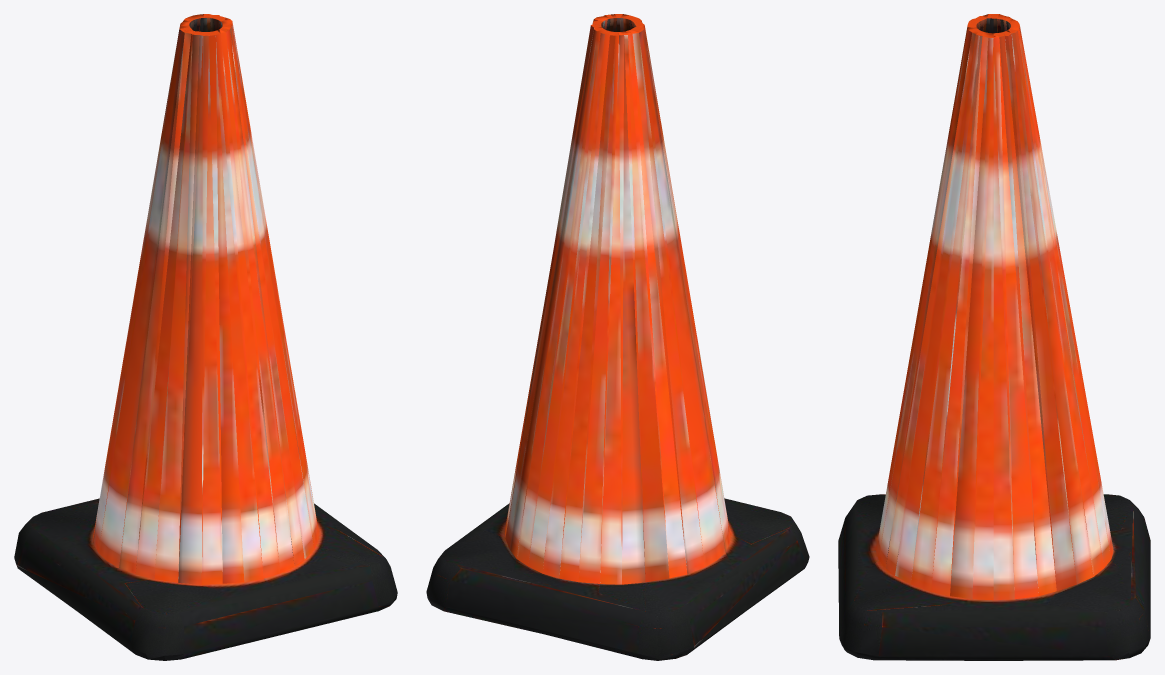
The model's file is traffic_cone.glb.
3 views of the same model, side by side, from view 1: azimuth 30°, elevation 25°; view 2: azimuth 150°, elevation 25°; view 3: azimuth 270°, elevation 25° (orthographic). The views are drawn at different scales.
Parts seen in each view (by area): view 1: traffic_cone_lod0; view 2: traffic_cone_lod0; view 3: traffic_cone_lod0.
Boxes of the visible parts, x1,y1,x2,y2 form: traffic_cone_lod0: (14,14,397,660); traffic_cone_lod0: (426,14,809,660); traffic_cone_lod0: (838,14,1150,660).
Size of what is drawn, in the model's own units: 0.3491 by 0.7 by 0.3477.
1 material, 1 textured.
